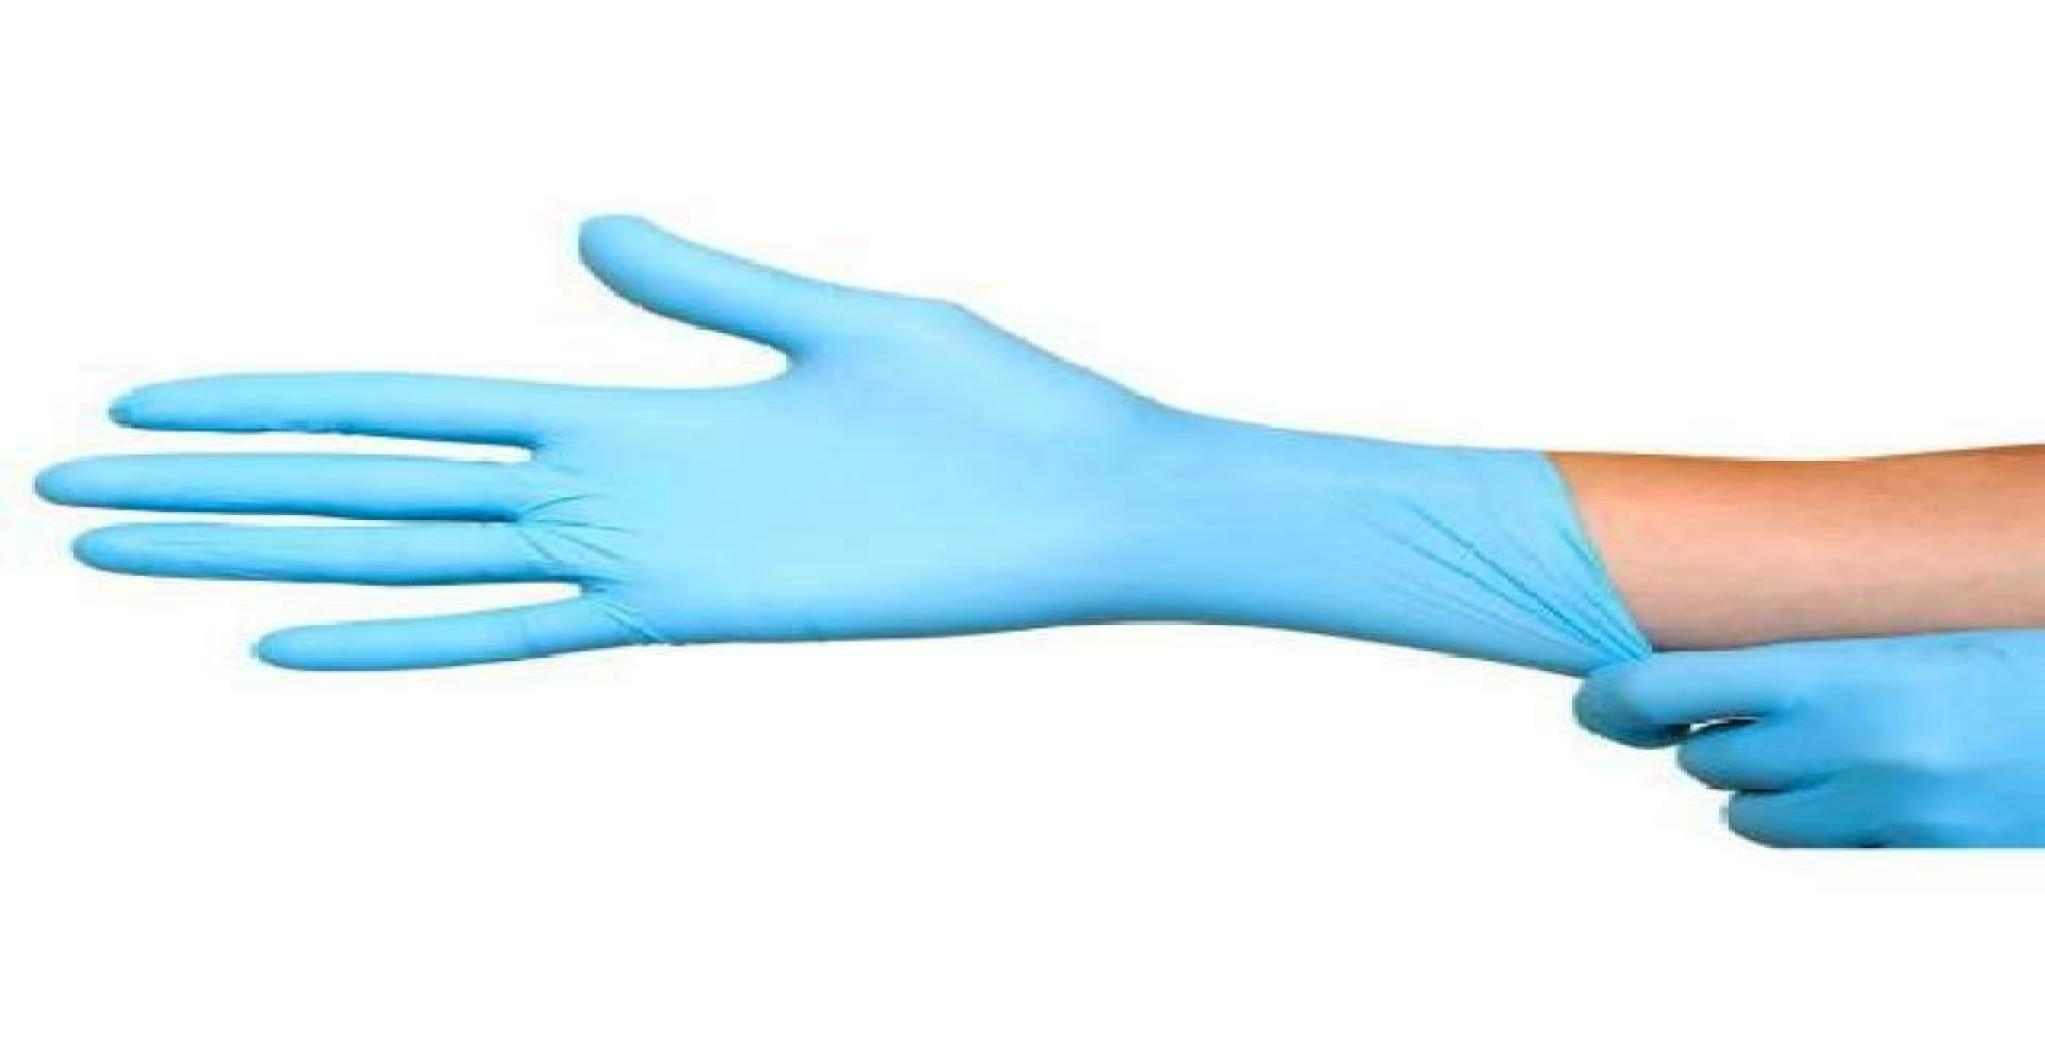gloved: (43, 213, 1582, 699), (1570, 591, 2045, 864)
